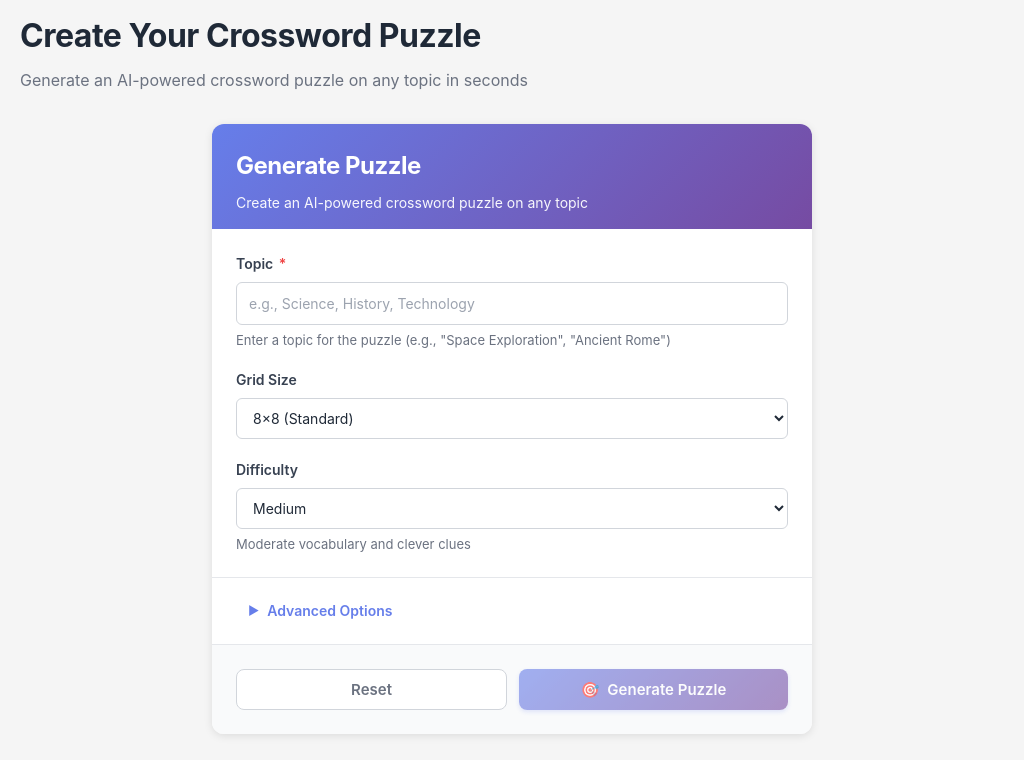
Scenario: PuzzleGenerator Component › Error Handling › should track generation attempts
First attempt
In the field with test id "topic-input": (512, 304) [236,282,788,325], type "Science"
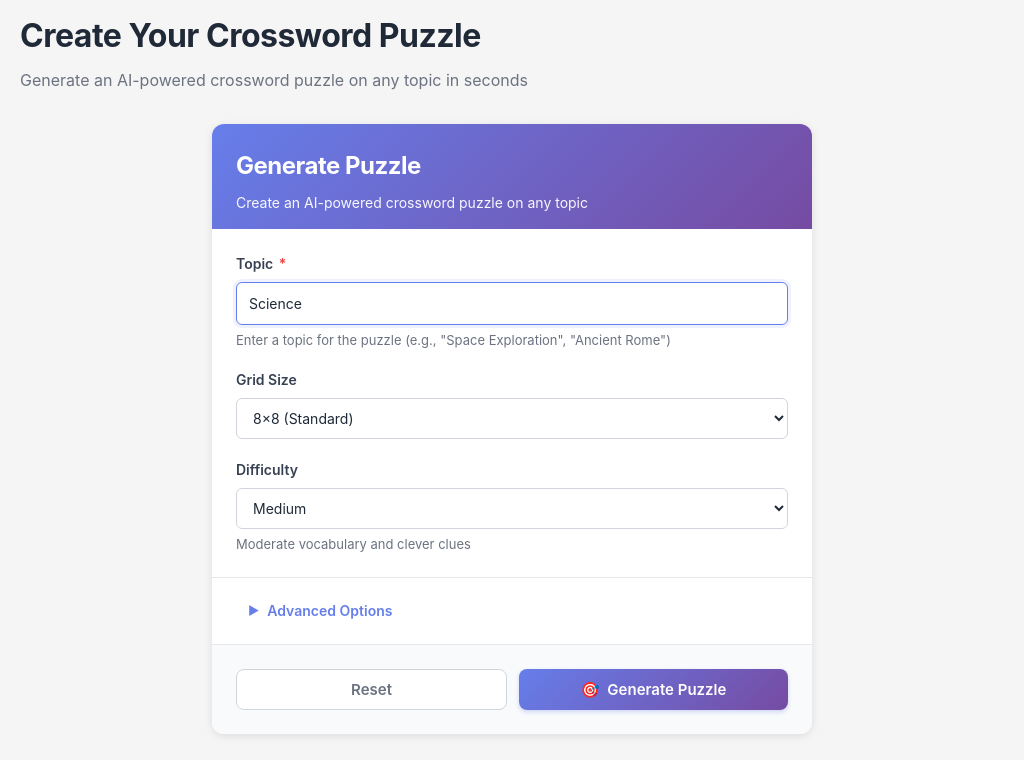
Click the button with test id "submit-button": (654, 690) [519,669,788,710]
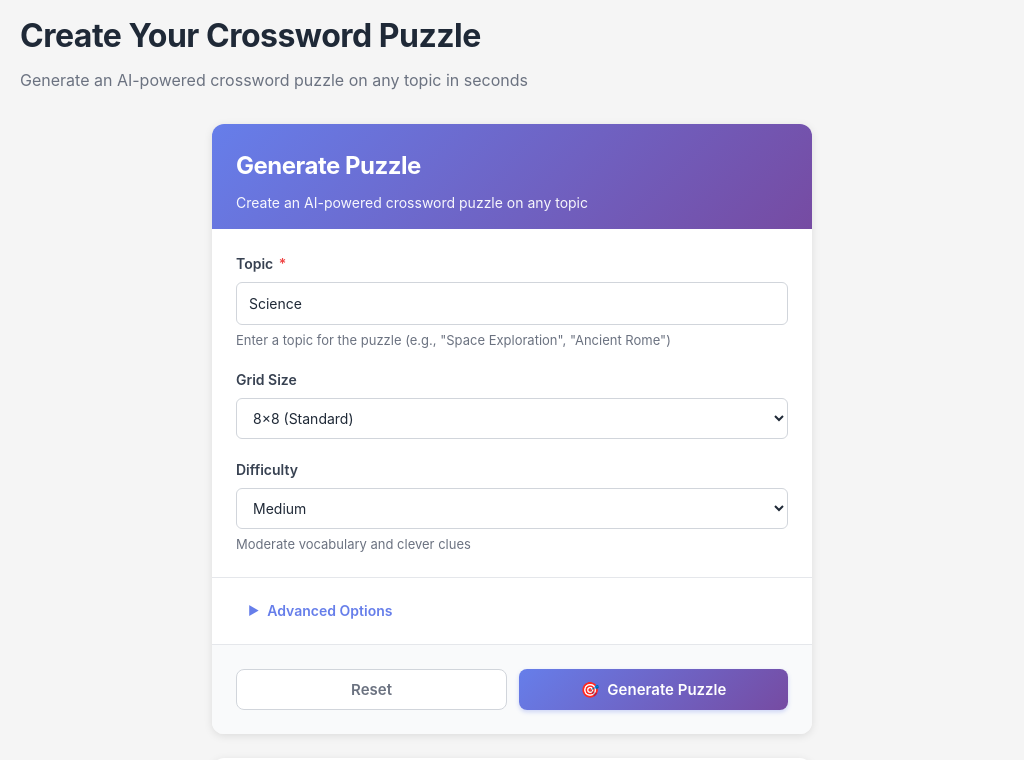
Submit again without retry (to increment attempt counter)
Click the button with test id "submit-button": (654, 690) [519,669,788,710]
(page scrolled)
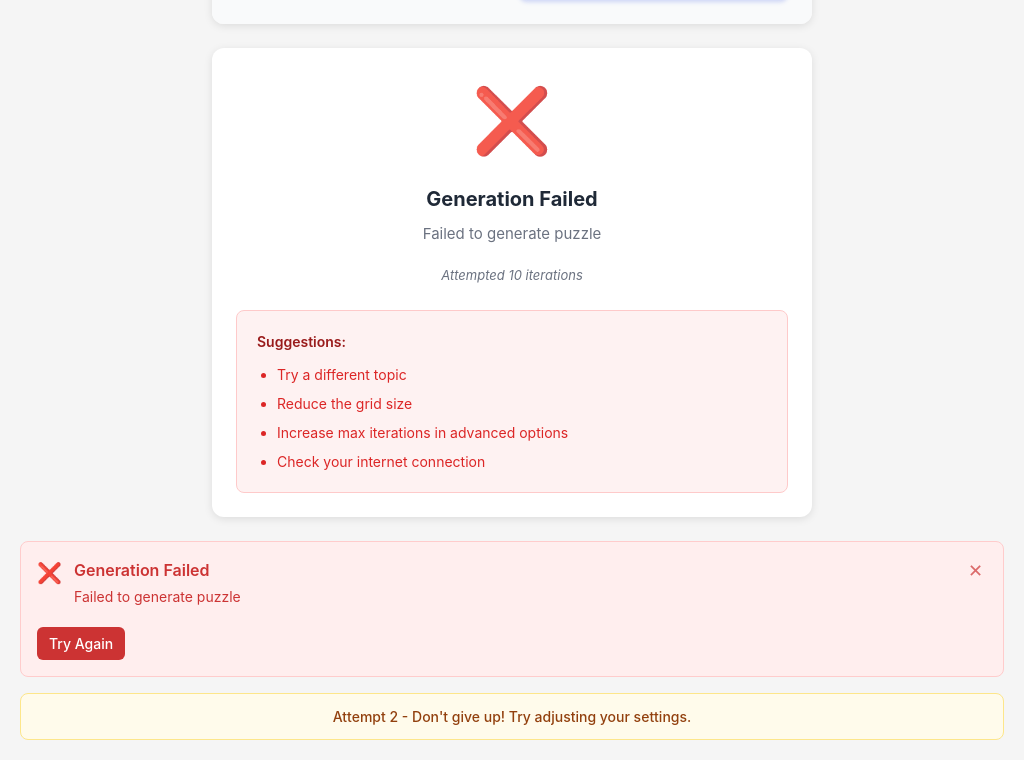
Check: the text "Attempt 2 - Don't give up! Try adjusting your settings." is shown, box [333,708,691,725]
